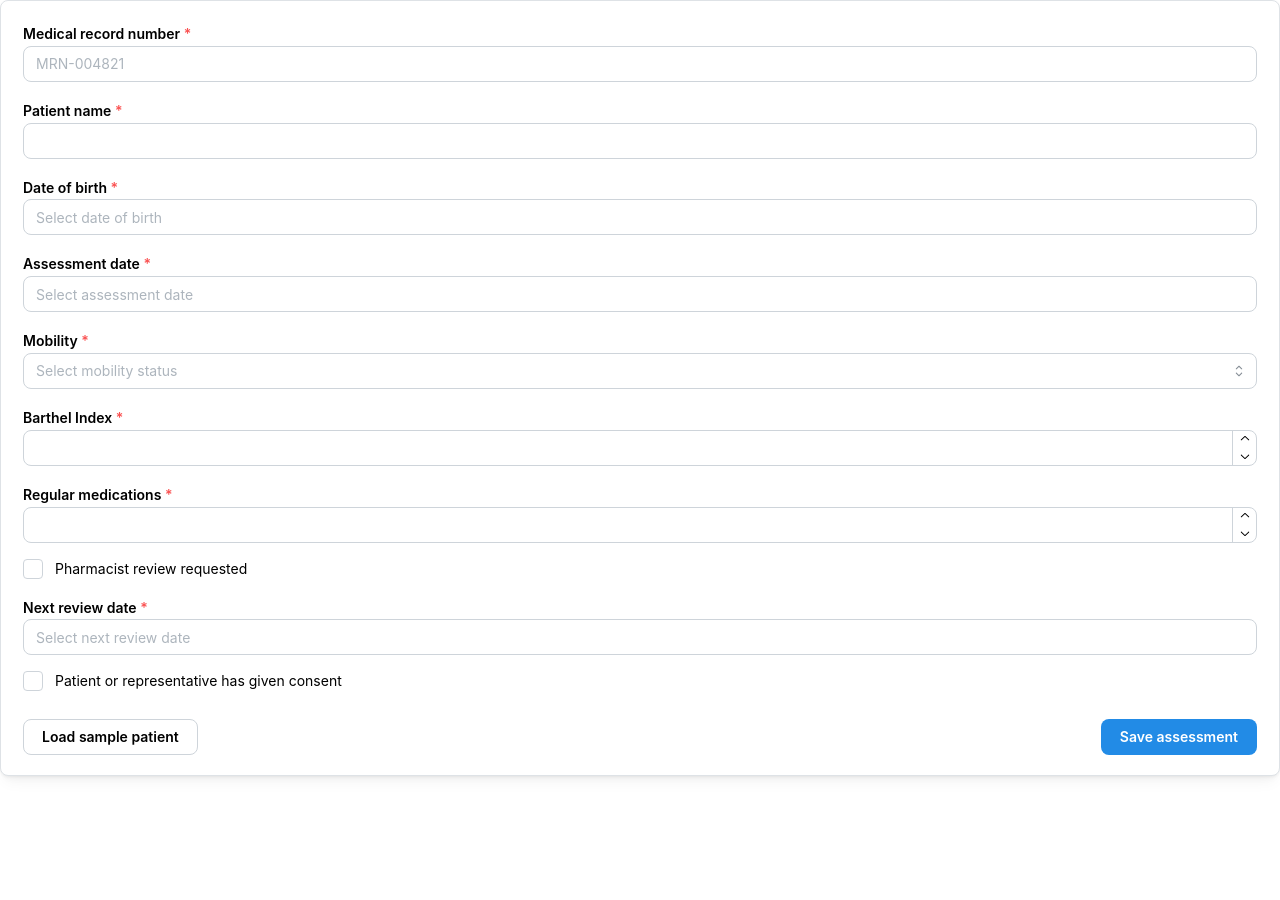
Test case: AssessmentForm › stays quiet until a field is blurred, then reports only that field
Expected: the text "Must look like MRN-004821" is not shown
Click the field labelled "Medical record number *" at point(640, 64), box [23,46,1257,82]
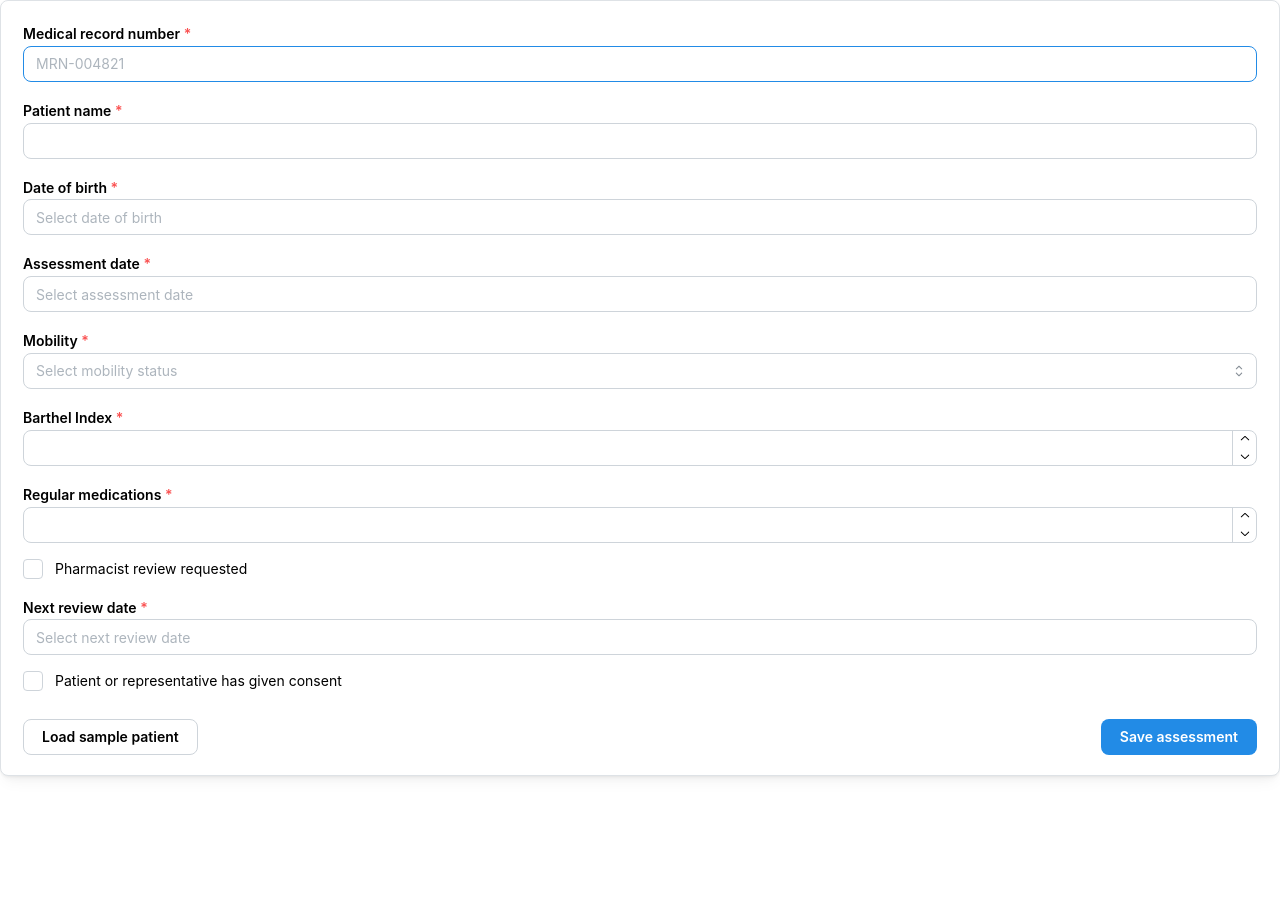
Press Tab
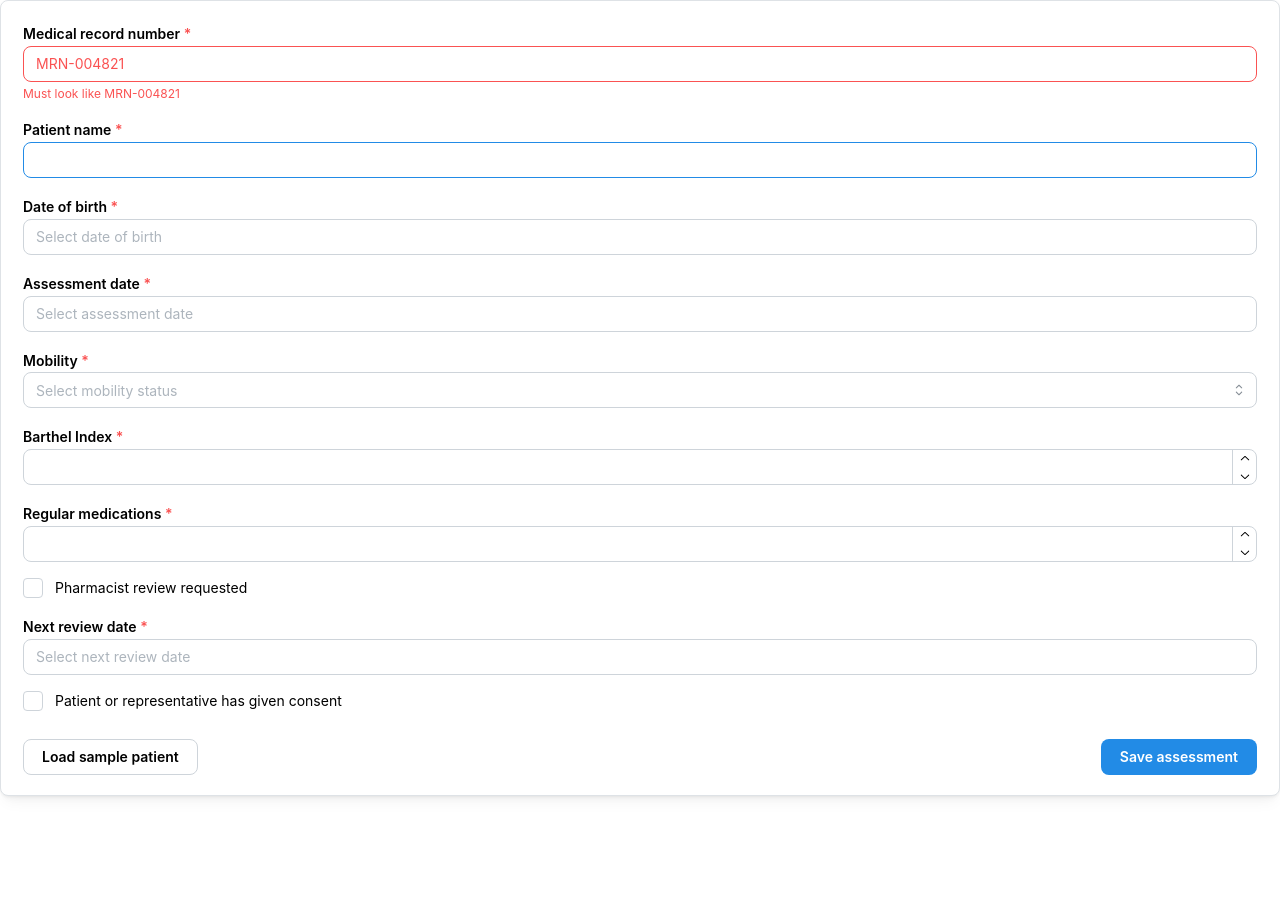
Expected: the text "Must look like MRN-004821" is shown, [23,86,180,101]
